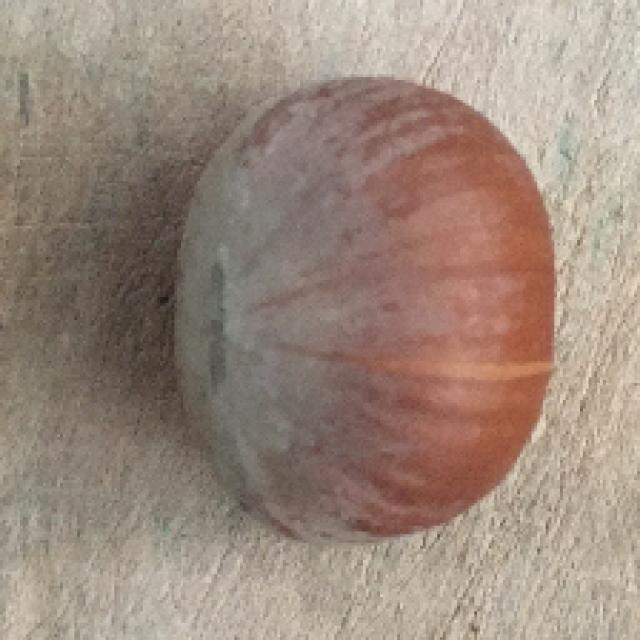qualityHazelnut: (163, 55, 565, 566)
